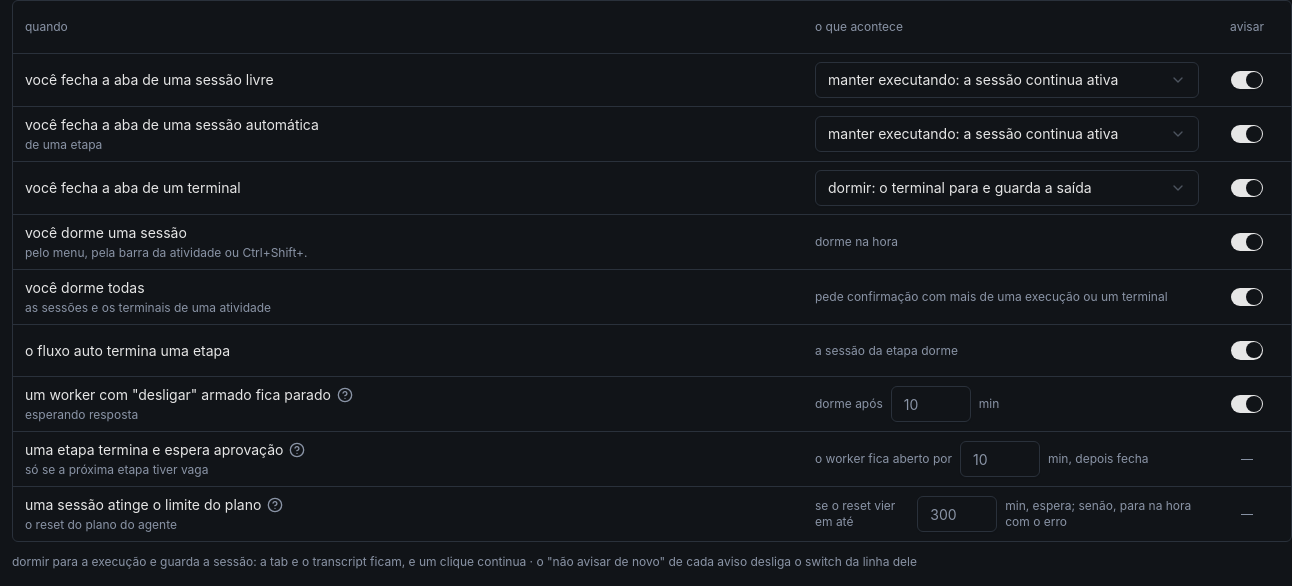
Test: row approval's ? shows settings.approvalMinutes.hint in a tooltip on keyboard focus; the hint is not on the page before (#778)
Focus the button named "uma etapa termina e espera aprovação" at (298, 450), box top-left (290, 442), bottom-right (306, 458)
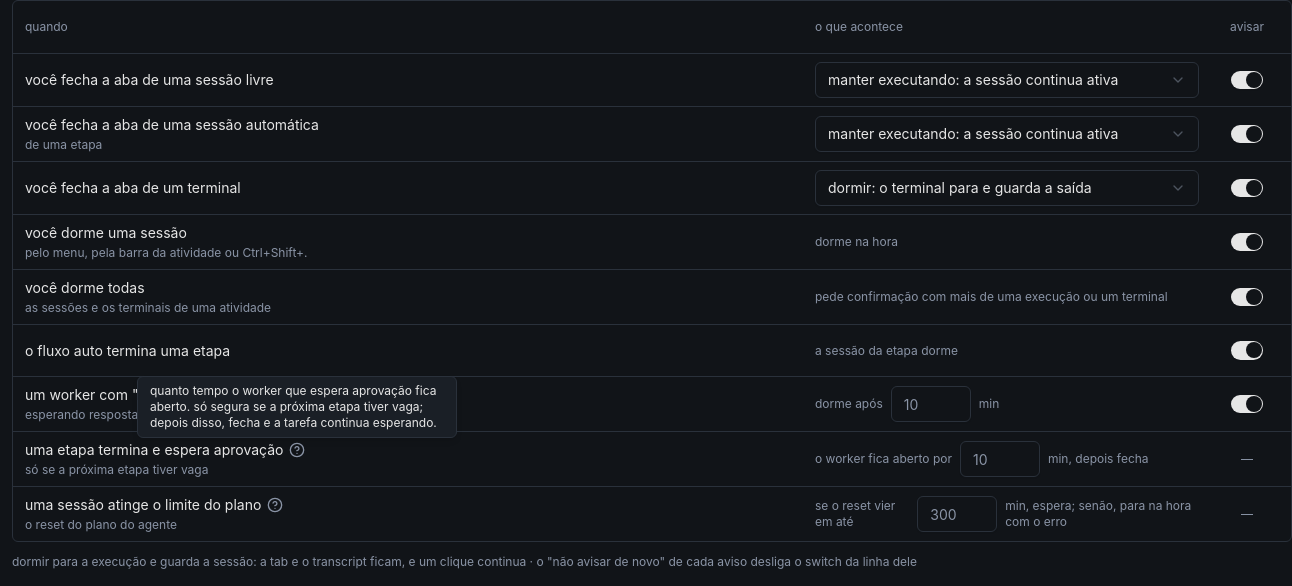
Result: the tooltip shows "quanto tempo o worker que espera aprovação fica aberto. só segura se a próxima etapa tiver vaga; depois disso, fecha e a tarefa continua esperando." at top-left (150, 383), bottom-right (437, 430)
